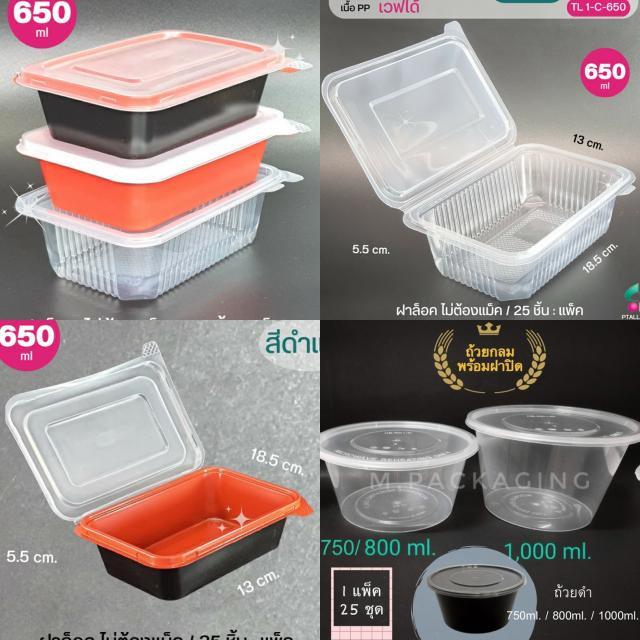Single-Use-Plastic: (322, 21, 635, 301), (6, 341, 312, 599), (15, 106, 309, 300), (15, 30, 311, 159), (16, 106, 309, 231), (466, 405, 640, 531), (320, 421, 479, 532), (426, 564, 526, 633)
